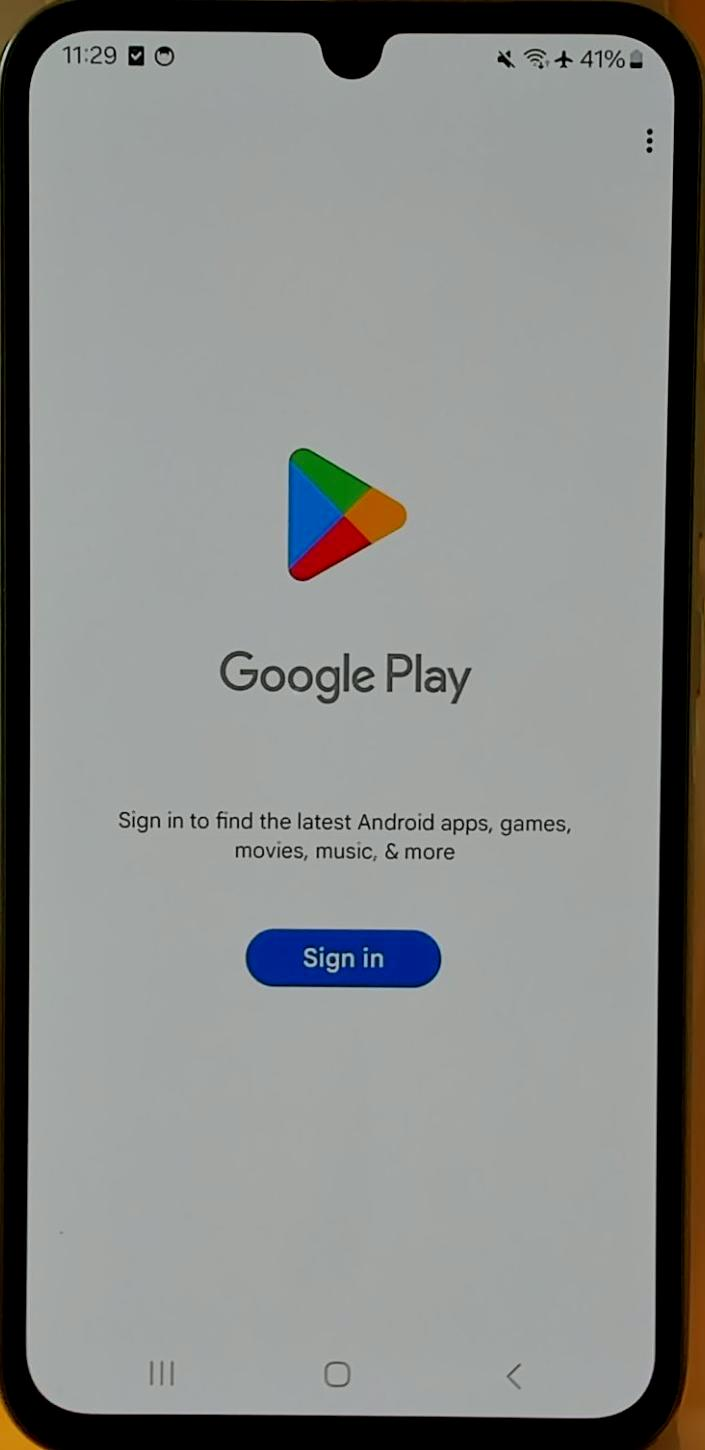CommunBotton: (240, 920, 454, 996), (140, 1346, 190, 1392), (318, 1350, 362, 1398), (496, 1340, 530, 1396)
menu: (634, 106, 662, 170)
